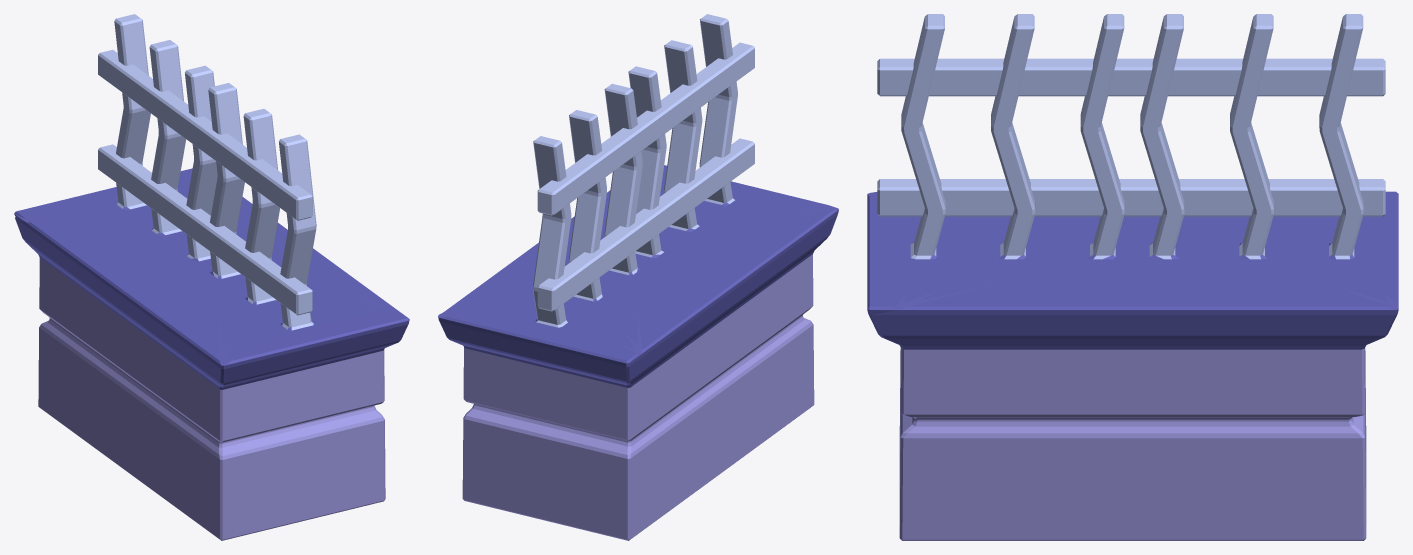
The model's file is Wall 1.fbx.
3 renders of one model, left to right at view 1: azimuth 30°, elevation 25°; view 2: azimuth 150°, elevation 25°; view 3: azimuth 270°, elevation 25°, orthographic. The views are drawn at different scales.
Parts seen in each view (by area): view 1: Wall 1; view 2: Wall 1; view 3: Wall 1.
Part boxes in pixels (x1,y1,x2,y2): Wall 1: (14,14,409,540); Wall 1: (438,14,838,540); Wall 1: (867,14,1398,540).
Bounding box in the file's own units: 119 × 224 × 228.
